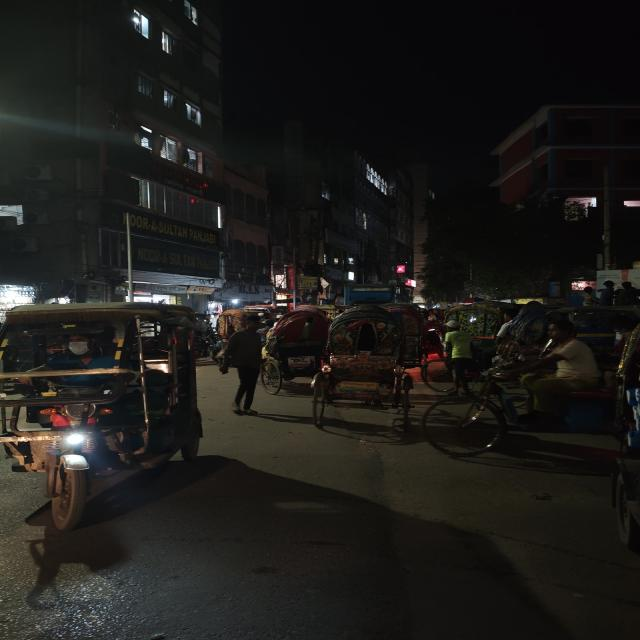pedestrian: (216, 314, 273, 416)
rickshaw: (0, 300, 216, 532), (450, 305, 630, 471), (312, 302, 428, 433), (256, 305, 340, 396)
